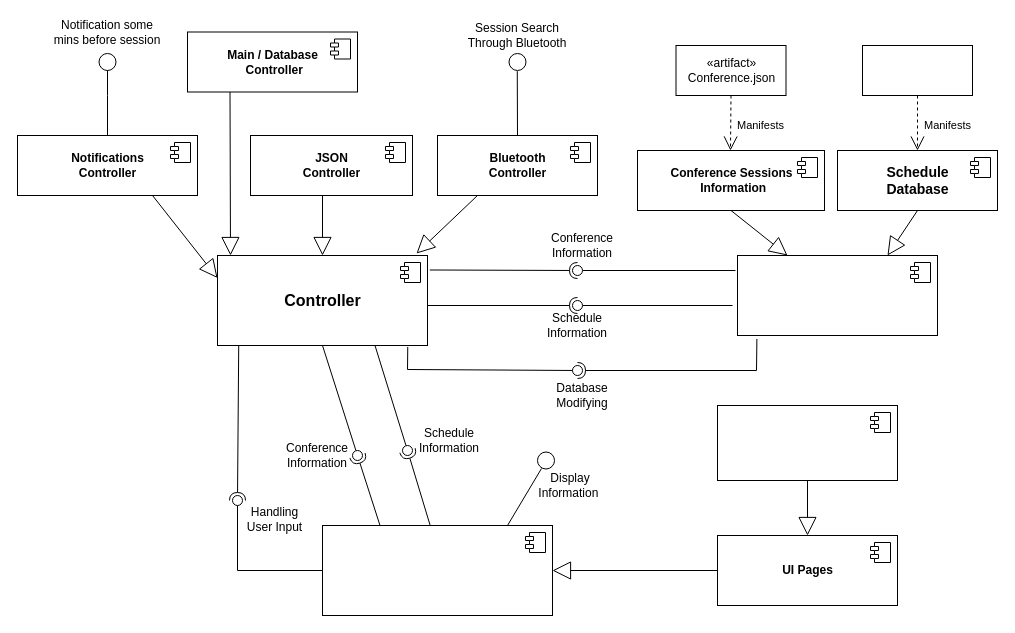
The diagram is 1015 pixels wide and 633 high, and some of its shapes have lost their labels. The centre of each missing label's shape, as x and y in pixels:
"Model" belongs at pixel 837 295.
"UI Components" belongs at pixel 807 442.
"View" belongs at pixel 437 570.
"«artifact» Database.db" belongs at pixel 917 70.
